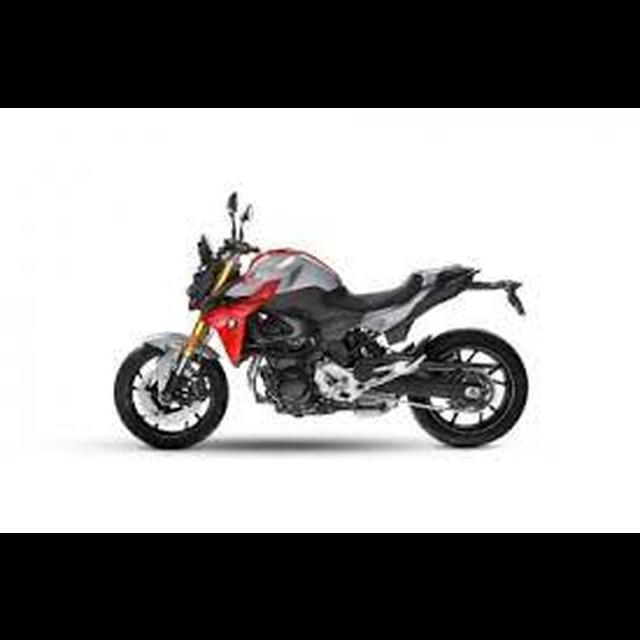motorcycle: (111, 185, 533, 457)
